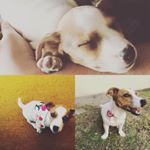puppy: (33, 2, 140, 76), (93, 85, 150, 144), (14, 94, 74, 136)
